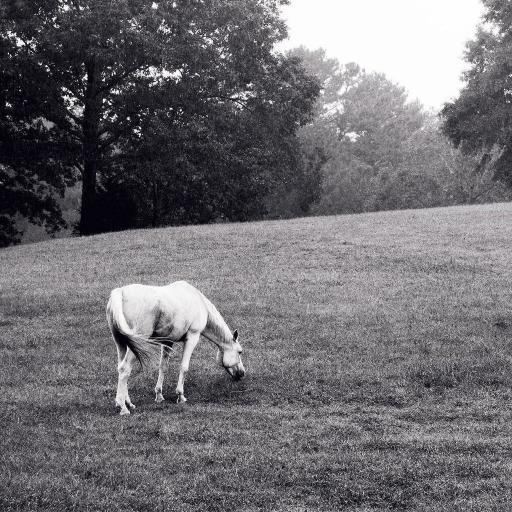horse: (108, 282, 246, 418)
